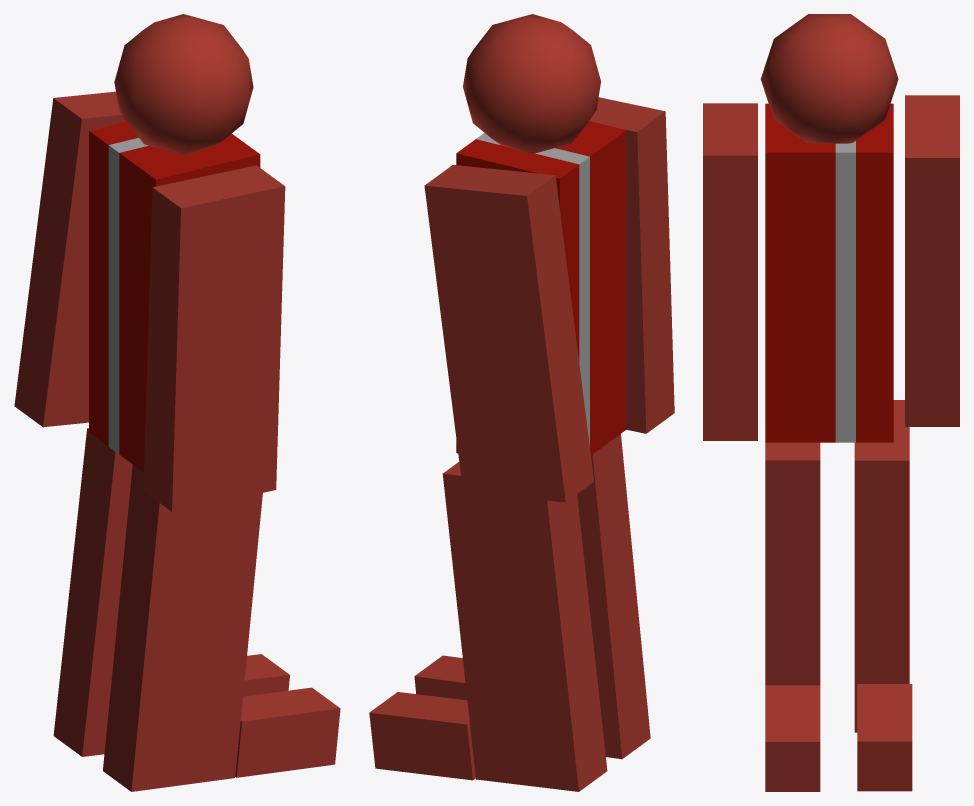
File: player_000078.obj
3 views of the same model, side by side, from view 1: azimuth 30°, elevation 25°; view 2: azimuth 150°, elevation 25°; view 3: azimuth 270°, elevation 25° (orthographic). The views are drawn at different scales.
Parts seen in each view (by area): view 1: Cube.013, Cube.010, Cube.007, Cube.012, Cube.008, Icosphere.001, Cube.011, Cube.009; view 2: Cube.012, Cube.008, Cube.007, Cube.013, Icosphere.001, Cube.010, Cube.009, Cube.011; view 3: Cube.007, Cube.013, Cube.012, Cube.008, Icosphere.001, Cube.010, Cube.009, Cube.011.
Boxes of the visible parts, x1,y1,x2,y2 form: Cube.013: [143, 165, 285, 511]; Cube.010: [103, 464, 262, 791]; Cube.007: [89, 121, 260, 472]; Cube.012: [14, 91, 126, 427]; Cube.008: [53, 428, 132, 756]; Icosphere.001: [114, 14, 253, 155]; Cube.011: [235, 687, 340, 777]; Cube.009: [243, 654, 289, 696]; Cube.012: [424, 165, 594, 502]; Cube.008: [442, 462, 607, 791]; Cube.007: [456, 121, 626, 455]; Cube.013: [589, 97, 674, 433]; Icosphere.001: [463, 14, 600, 154]; Cube.010: [577, 434, 650, 759]; Cube.009: [369, 692, 475, 780]; Cube.011: [414, 655, 467, 700]; Cube.007: [765, 103, 893, 442]; Cube.013: [703, 103, 757, 440]; Cube.012: [905, 95, 959, 426]; Cube.008: [854, 400, 909, 732]; Icosphere.001: [760, 14, 898, 143]; Cube.010: [765, 442, 820, 685]; Cube.009: [857, 684, 912, 791]; Cube.011: [765, 685, 820, 791].
Size of the model in its own units: 0.8883 by 2.83 by 0.9137.
